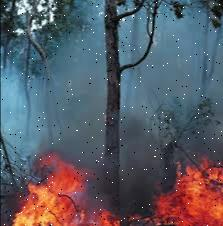fire: (8, 150, 116, 226), (150, 151, 222, 226)
